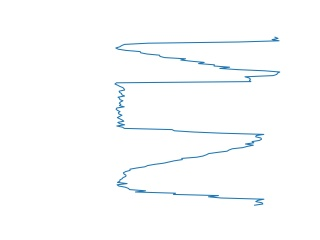distributaryChannelFill: (110, 71, 268, 143)
mouthBar: (110, 33, 283, 77)
underwaterDistributaryChannel: (114, 136, 266, 207)
